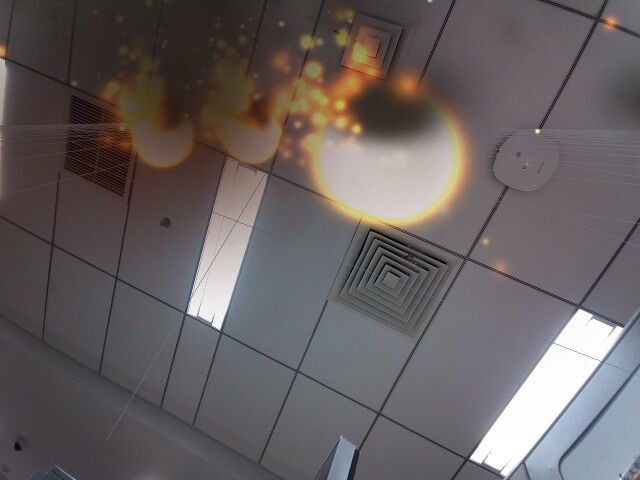fire: (311, 79, 470, 230), (124, 108, 197, 169), (222, 104, 284, 165)
